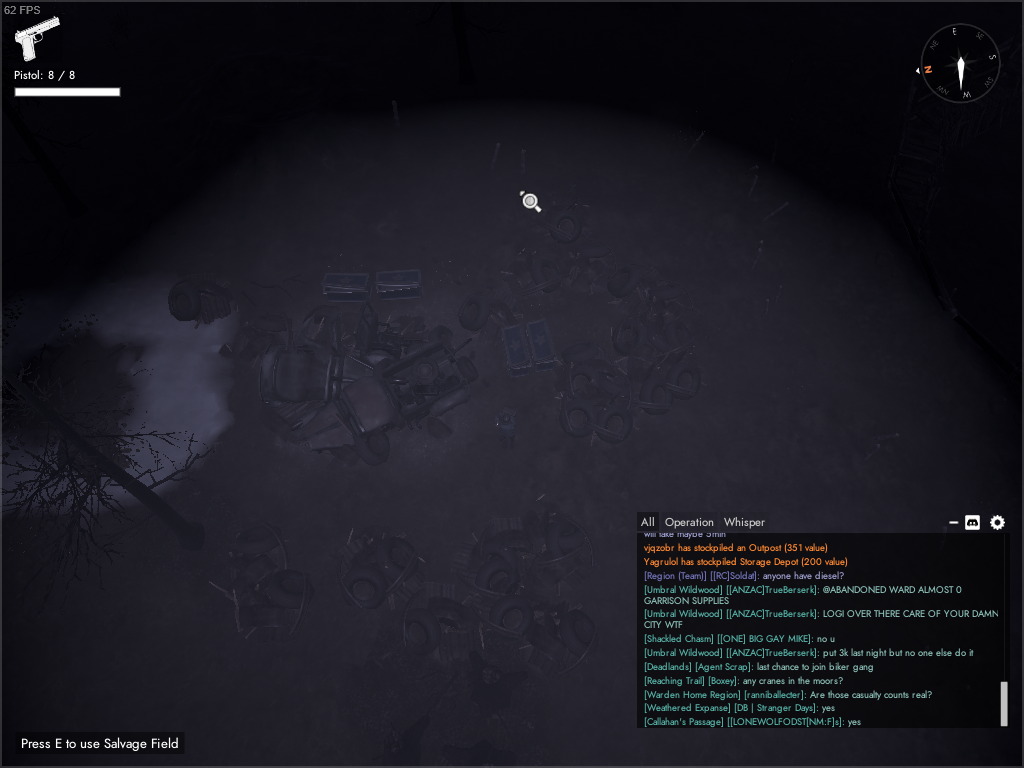player: (494, 405, 519, 448)
scrap: (403, 590, 602, 675), (450, 492, 595, 602), (210, 520, 318, 640), (610, 318, 702, 414), (558, 338, 634, 444), (336, 527, 428, 609), (609, 265, 698, 332), (498, 244, 615, 293), (167, 275, 235, 328), (459, 289, 525, 336), (546, 203, 591, 248)
scrapyard: (241, 304, 481, 469)
storage_box: (524, 318, 562, 374), (500, 322, 534, 378), (374, 267, 424, 303), (320, 270, 372, 303)
